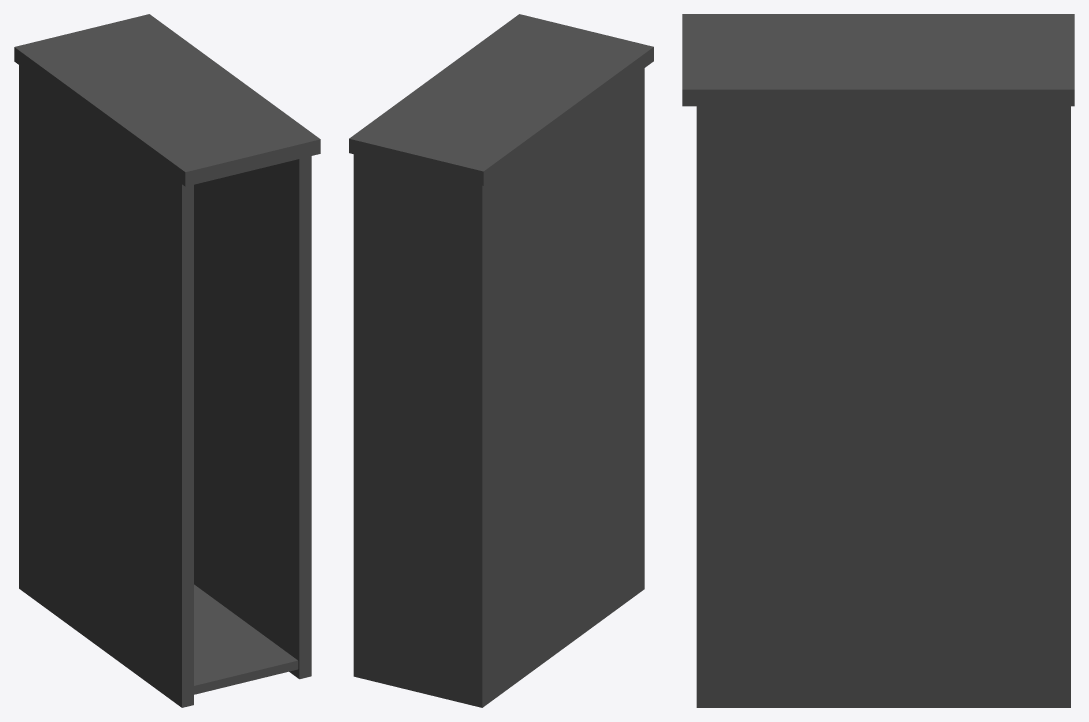
The model's file is FileCabinet_Small.fbx.
3 renders of one model, left to right at view 1: azimuth 30°, elevation 25°; view 2: azimuth 150°, elevation 25°; view 3: azimuth 270°, elevation 25°, orthographic. The views are drawn at different scales.
Parts seen in each view (by area): view 1: FileCabinet_Small; view 2: FileCabinet_Small; view 3: FileCabinet_Small.
Part boxes in pixels (x1,y1,x2,y2): FileCabinet_Small: (14, 14, 320, 707); FileCabinet_Small: (349, 14, 653, 707); FileCabinet_Small: (682, 14, 1074, 707).
Bounding box in the file's own units: 27.47 × 105 × 60.22.
